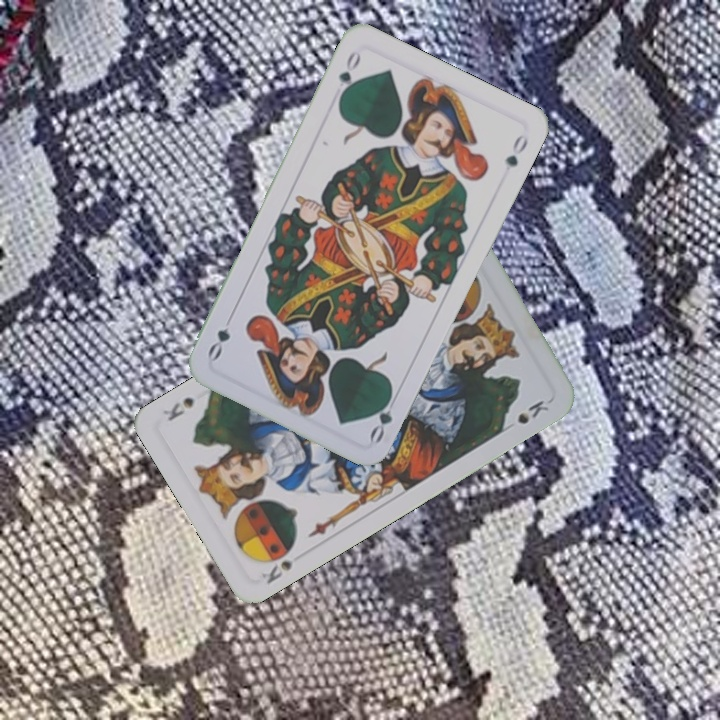GO: (365, 387, 401, 445), (334, 47, 364, 103)
SK: (258, 541, 308, 587)
